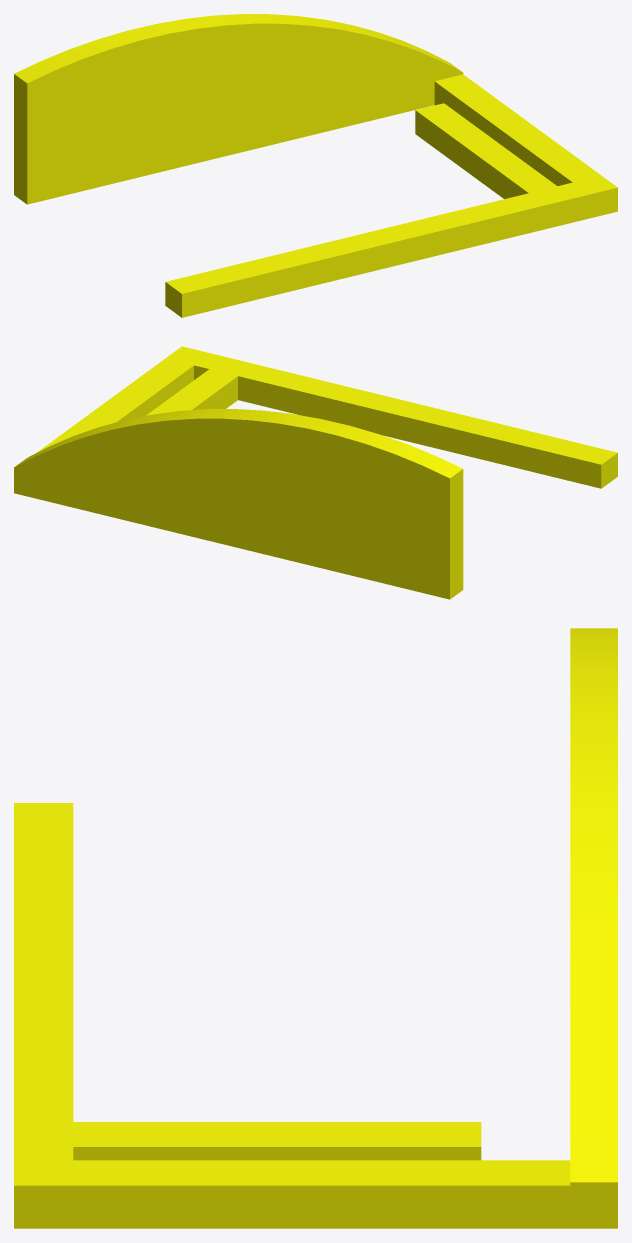
File: bluetooth.glb
3 renders of one model, top to bottom at view 1: azimuth 30°, elevation 25°; view 2: azimuth 150°, elevation 25°; view 3: azimuth 270°, elevation 25°, orthographic. The views are drawn at different scales.
Parts seen in each view (by area): view 1: Body1 (×4); view 2: Body1 (×4); view 3: Body1 (×4).
Part boxes in pixels (bbox=[...]): Body1 (×4): bbox=[14, 14, 617, 317]; Body1 (×4): bbox=[14, 346, 617, 599]; Body1 (×4): bbox=[14, 628, 617, 1228].
Bounding box in the file's own units: 0.0152 × 0.00456 × 0.0102.
